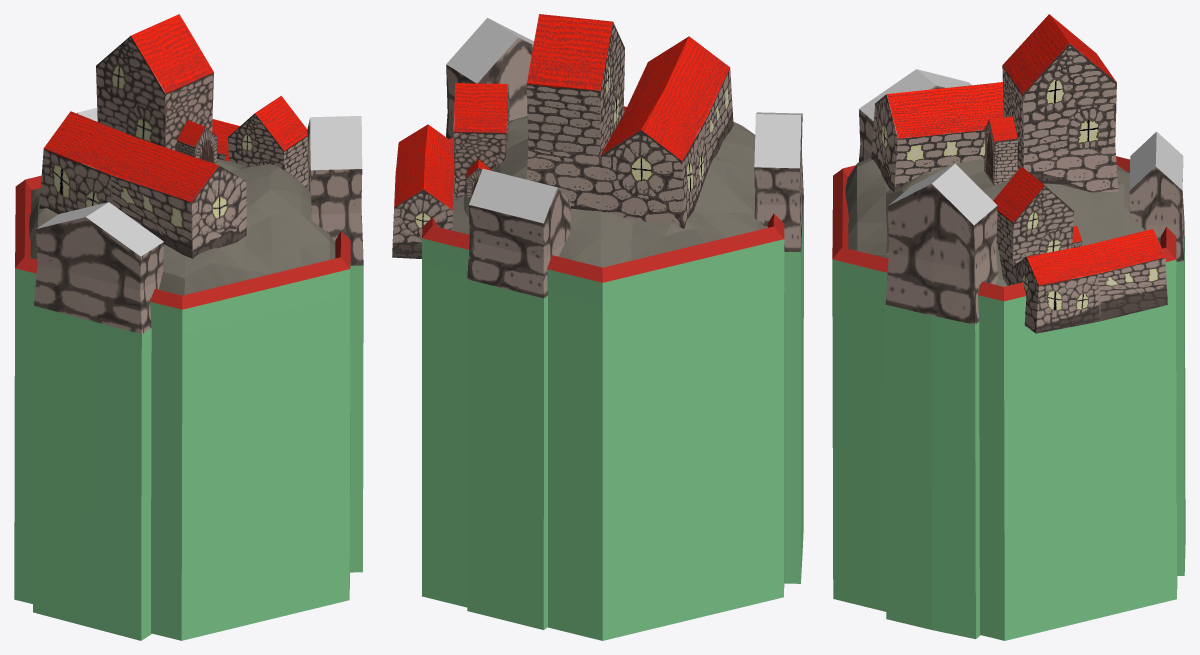
Rendered from settlement_small.fbx.
3 views of the same model, side by side, from view 1: azimuth 30°, elevation 25°; view 2: azimuth 150°, elevation 25°; view 3: azimuth 270°, elevation 25° (orthographic). The views are drawn at different scales.
Visible parts, largest first — view 1: Cube.003, Cube.002, BasePlate.003, Cube.001; view 2: Cube.003, Cube.002, BasePlate.003, Cube.001; view 3: Cube.003, Cube.002, Cube.001, BasePlate.003.
Part boxes in pixels (x1,y1,x2,y2): Cube.003: (14, 108, 363, 640); Cube.002: (39, 14, 246, 258); BasePlate.003: (29, 159, 335, 295); Cube.001: (212, 95, 307, 188); Cube.003: (422, 18, 803, 640); Cube.002: (526, 14, 733, 228); BasePlate.003: (452, 111, 766, 267); Cube.001: (392, 83, 509, 258); Cube.003: (832, 69, 1185, 640); Cube.002: (871, 14, 1118, 192); Cube.001: (993, 166, 1167, 333); BasePlate.003: (845, 158, 1145, 286).
Size of the model in its own units: 41.66 by 59.74 by 36.1.
